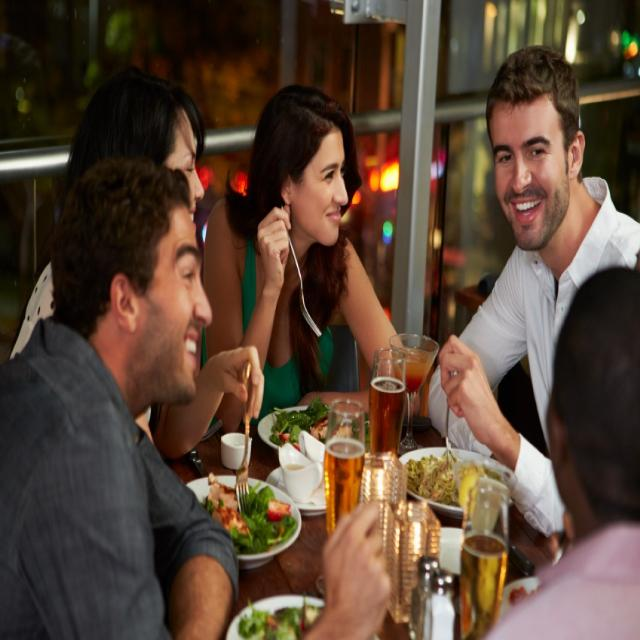body: (8, 145, 394, 640), (427, 44, 639, 545), (5, 70, 269, 462), (199, 79, 421, 435), (483, 252, 640, 636)
